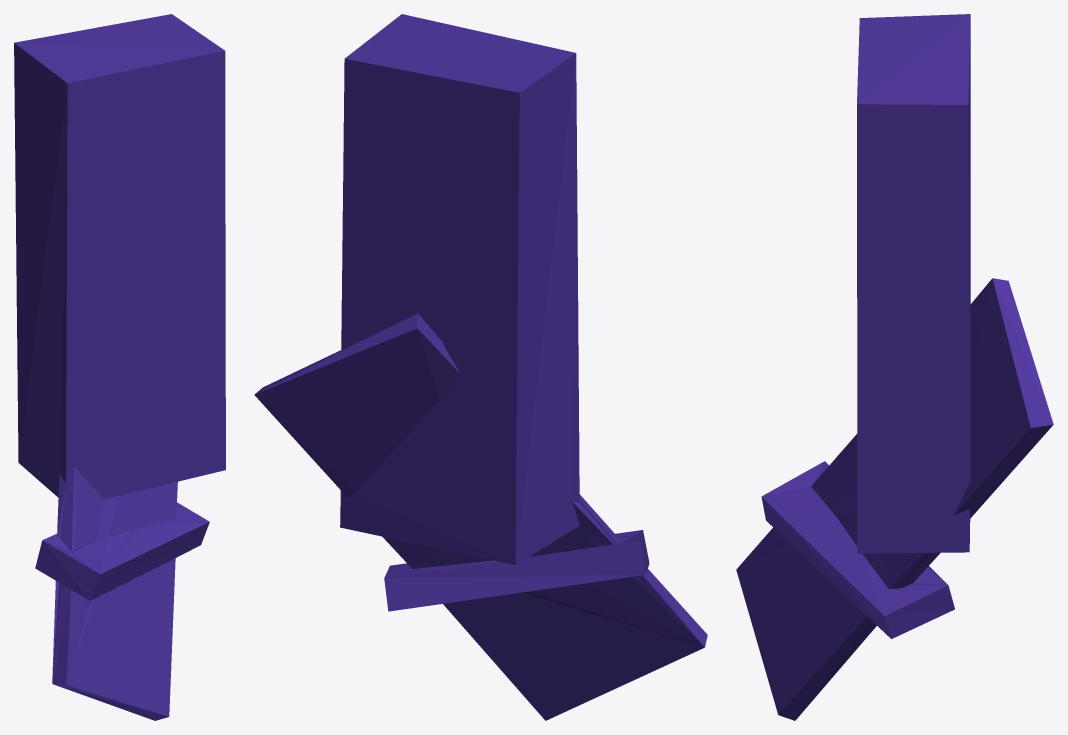
The picture shows the model from 3 angles, left to right: view 1: azimuth 30°, elevation 25°; view 2: azimuth 150°, elevation 25°; view 3: azimuth 270°, elevation 25°; orthographic projection. The views are drawn at different scales.
Parts seen in each view (by area): view 1: 415_Cube.1687; view 2: 415_Cube.1687; view 3: 415_Cube.1687.
Part boxes in pixels (x1,y1,x2,y2): 415_Cube.1687: (14,14,225,720); 415_Cube.1687: (254,14,707,720); 415_Cube.1687: (736,14,1053,720).
Size of the model in its own units: 7.84 by 18 by 7.66.
